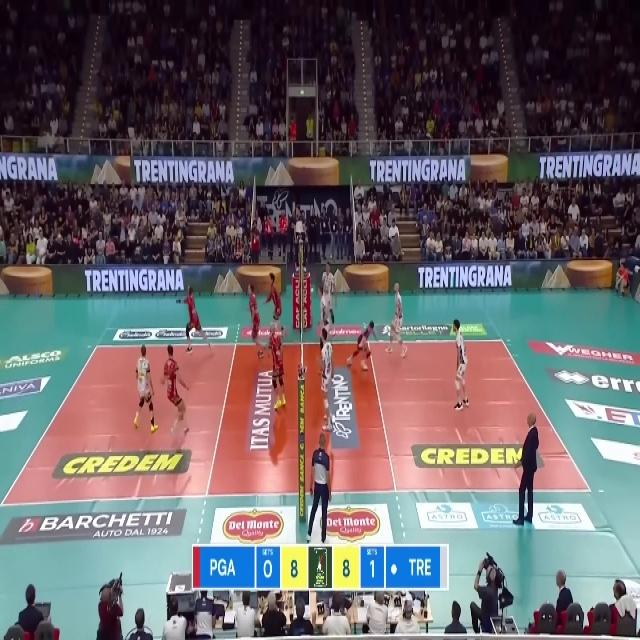volleyball court: (2, 336, 593, 501)
